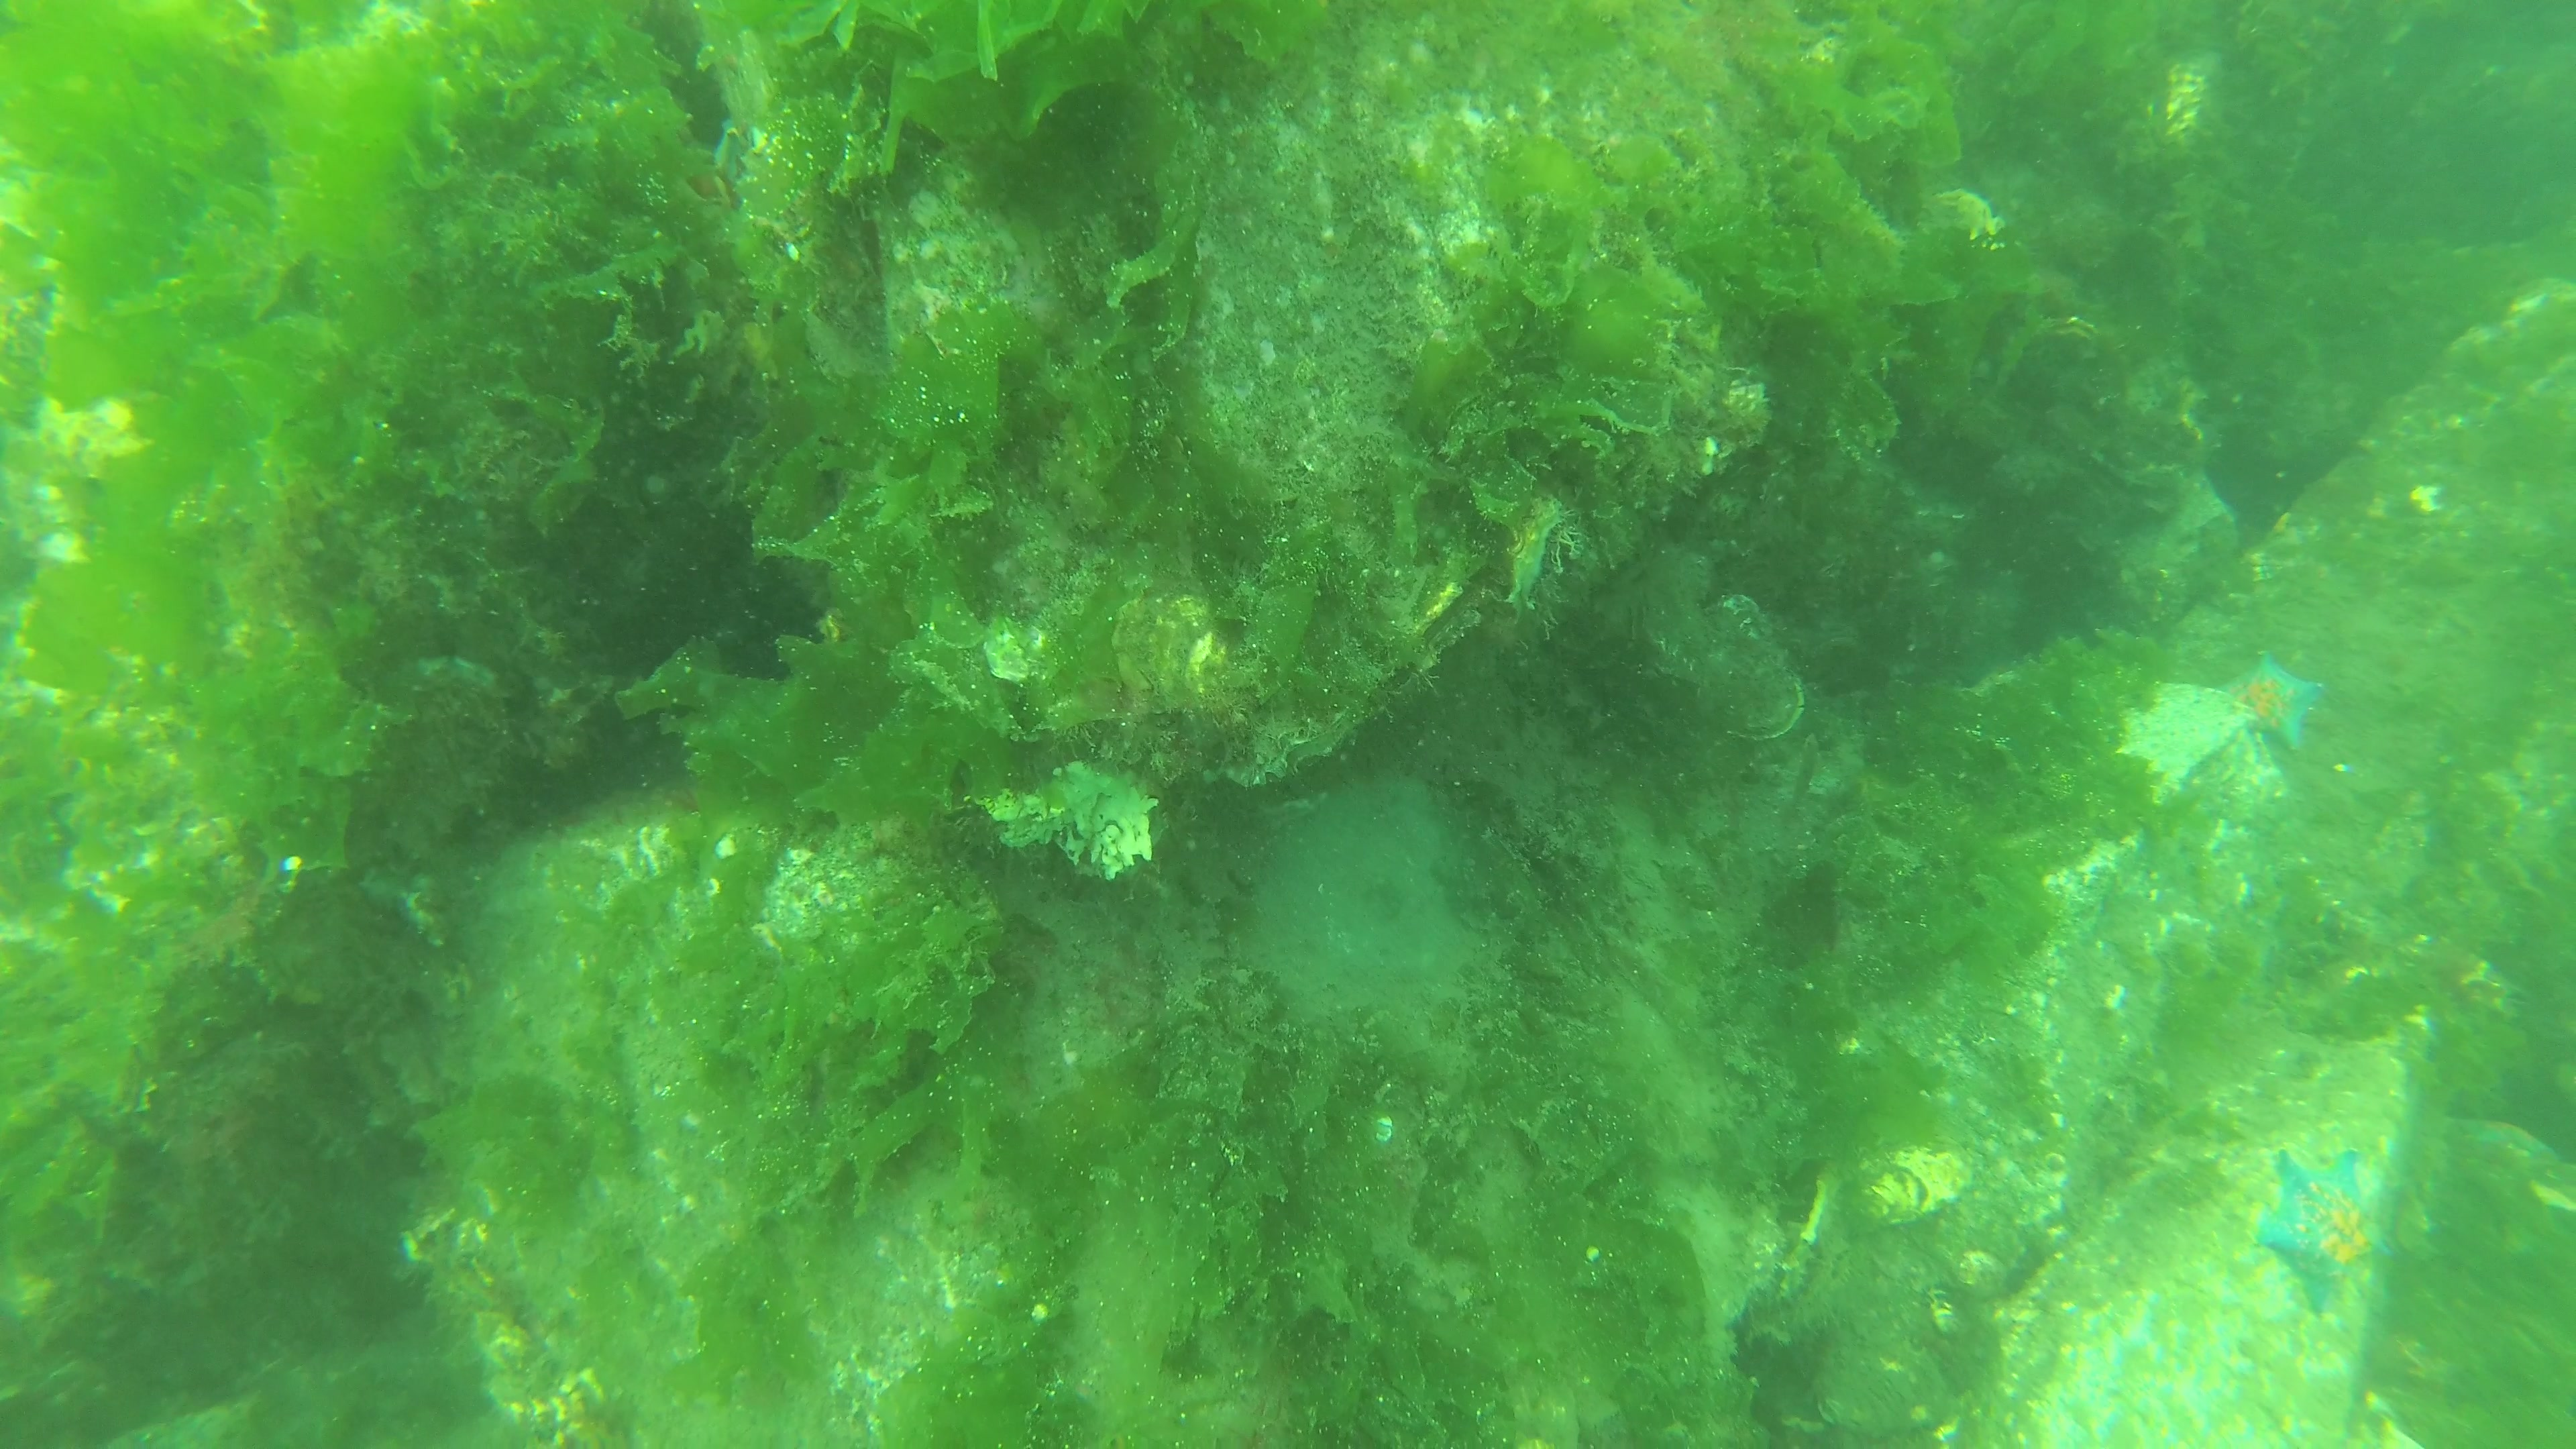starfish: (2250, 1143, 2401, 1313), (2222, 644, 2332, 763)
